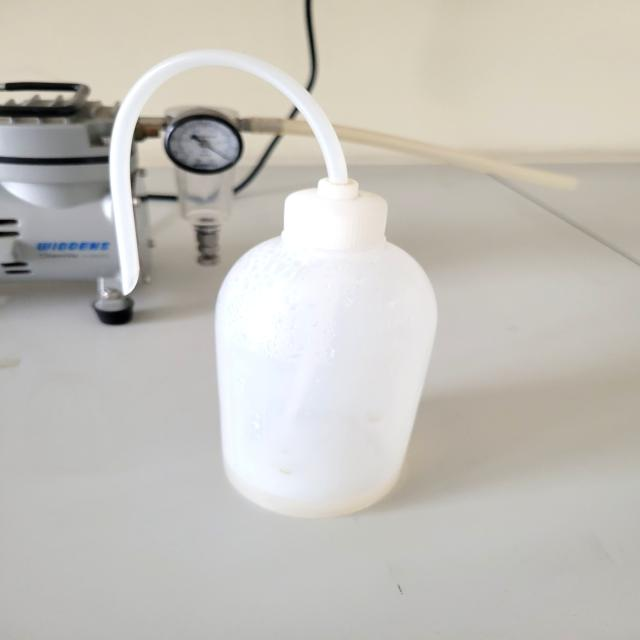Wash_Bottle: (97, 38, 450, 544)
